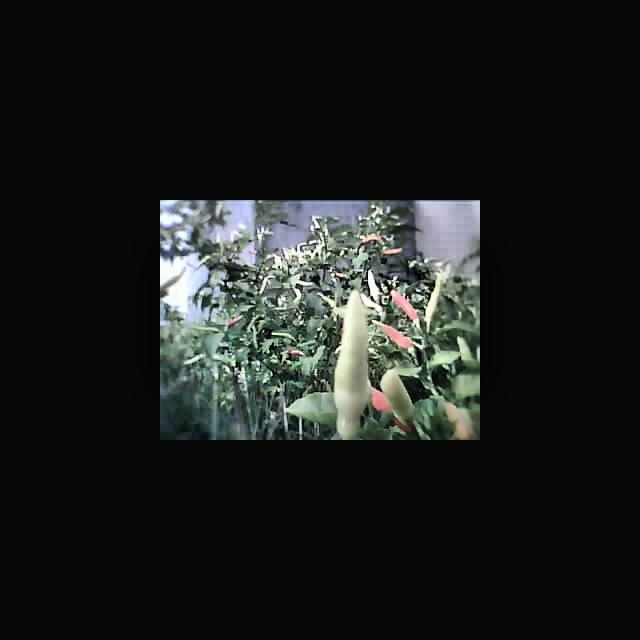Cabai: (376, 320, 420, 358), (390, 290, 422, 327), (379, 245, 406, 257), (359, 232, 386, 244), (285, 346, 310, 357)
